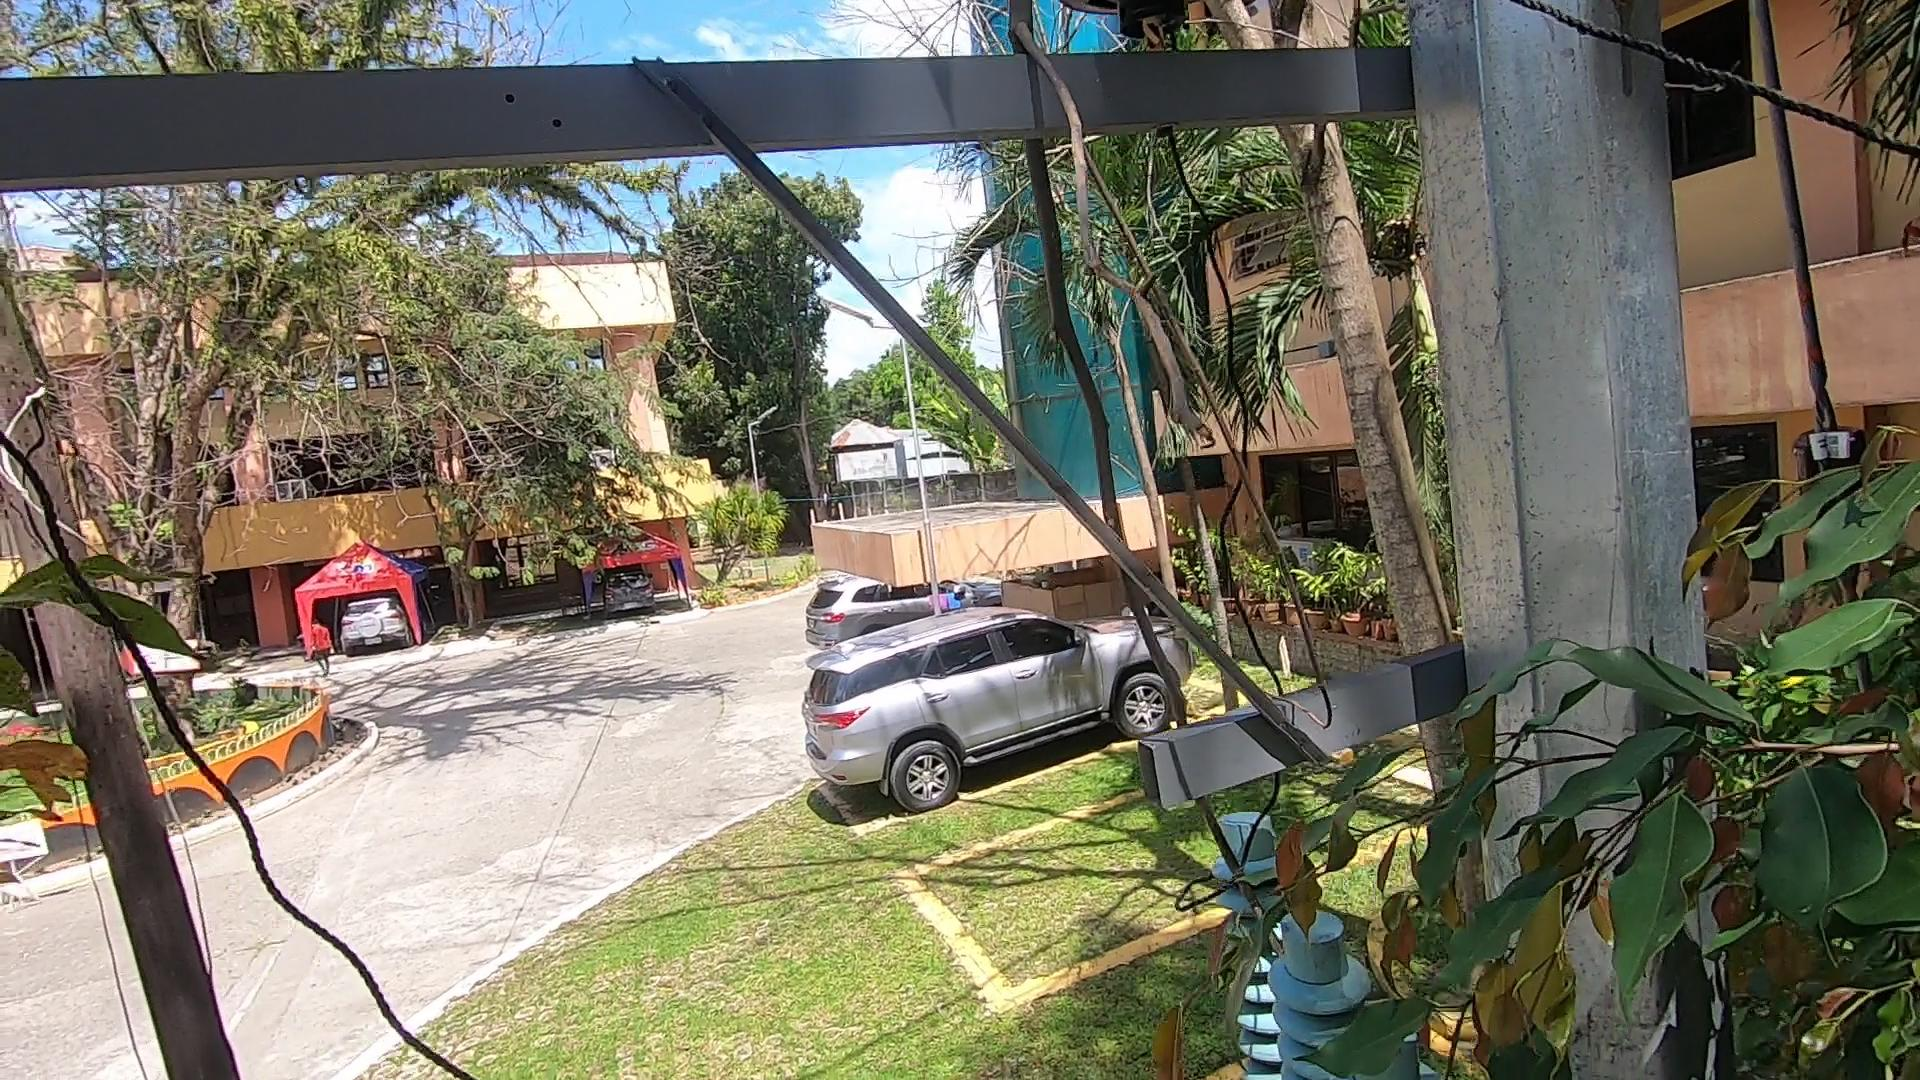tree branch: (972, 1, 1245, 753), (1120, 766, 1614, 1080)
